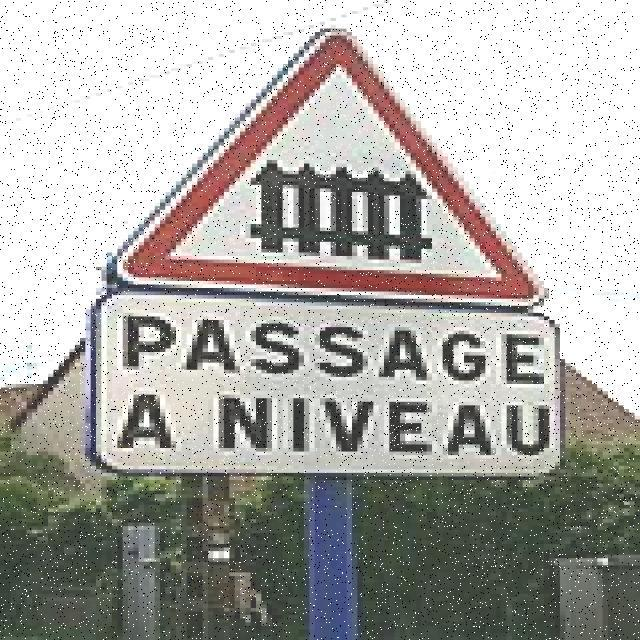Traffic sign: (80, 21, 569, 489)
